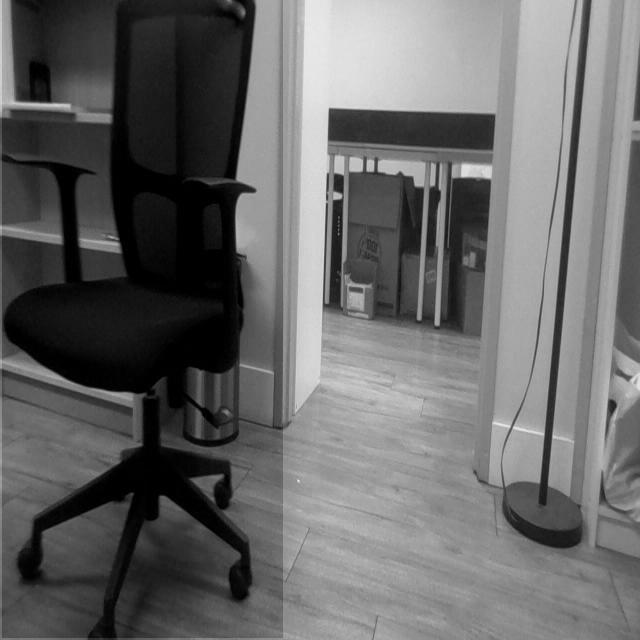chair: (0, 0, 266, 640)
